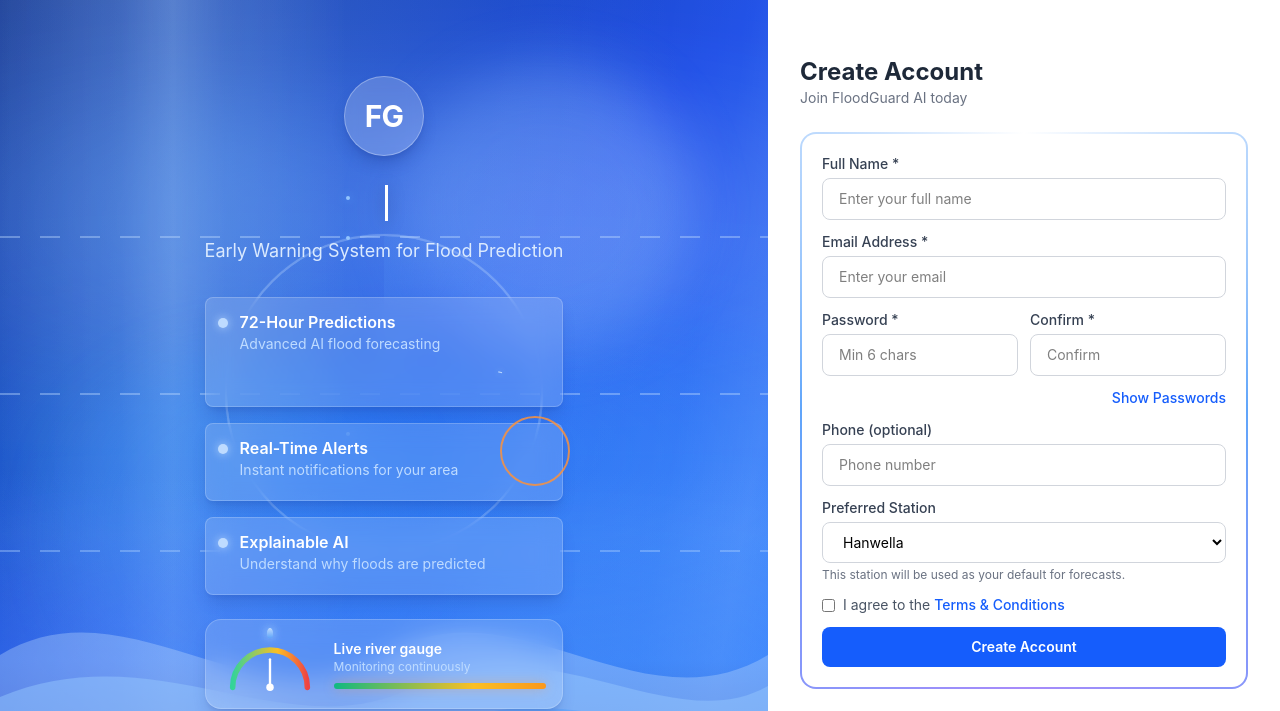
Test: RegisterPage › should show validation error for short password
Type "12345" into the password field with placeholder "Min 6 chars" at point(920, 355), box top-left (822, 334), bottom-right (1018, 376)
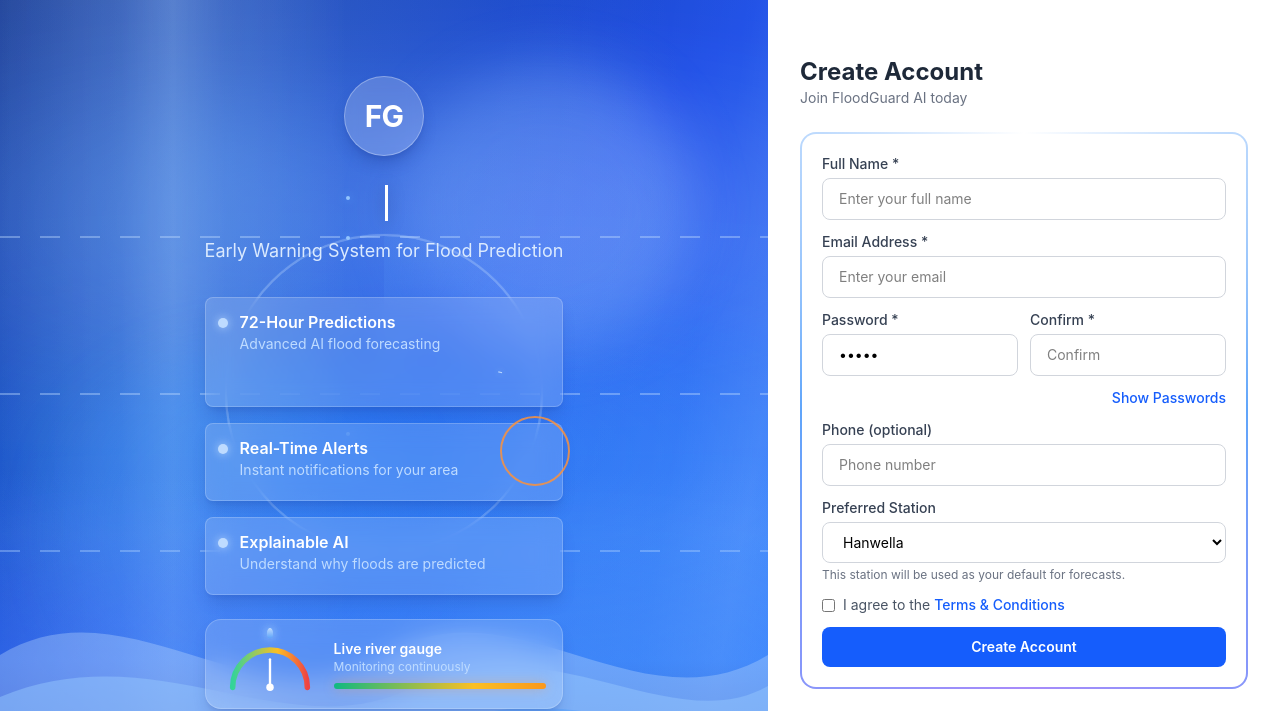
Leave the password field with placeholder "Min 6 chars", box top-left (822, 334), bottom-right (1018, 376)
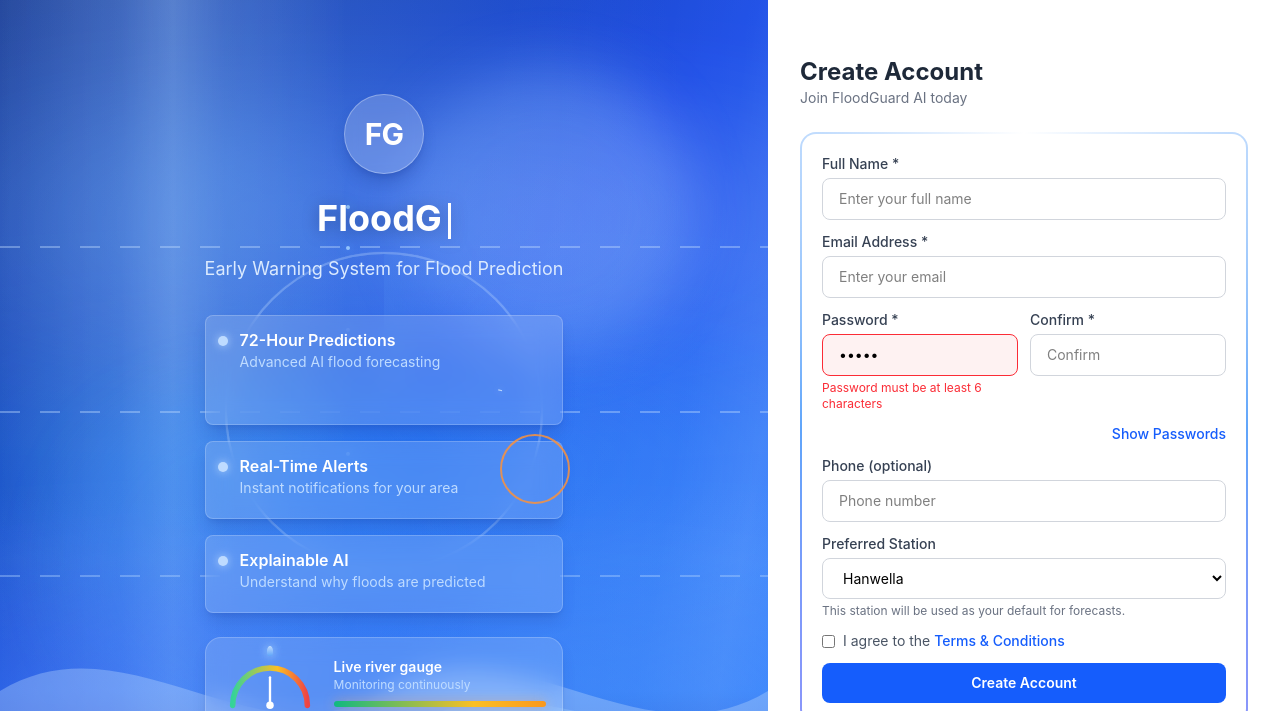
Expected: the text "Password must be at least 6 characters" is shown, top-left (822, 380), bottom-right (982, 411)
